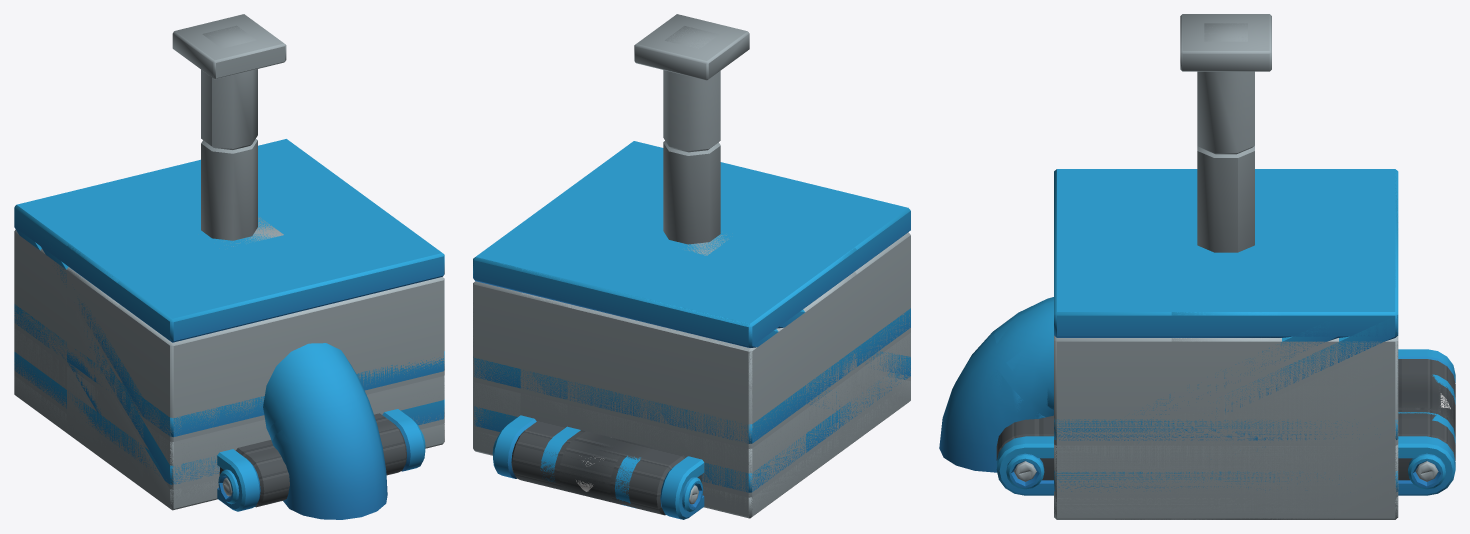
The model's file is space.glb.
The picture shows the model from 3 angles, left to right: view 1: azimuth 30°, elevation 25°; view 2: azimuth 150°, elevation 25°; view 3: azimuth 270°, elevation 25°; orthographic projection. The views are drawn at different scales.
Visible parts, largest first — view 1: platform_6x6x4_blue, pipe_180_A_blue, pillar_2x2x8, platform_6x6x2_blue, platform_slope_6x4x4_blue, platform_6x2x4_blue, platform_4x4x4_blue, conveyor_4x8x1_blue, platform_4x2x4_blue, platform_6x6x1_blue, platform_slope_6x6x4_blue, platform_6x2x2_blue (+3 smaller); view 2: platform_6x6x4_blue, platform_slope_6x6x4_blue, platform_6x6x2_blue, platform_6x2x4_blue, pillar_2x2x8, platform_slope_4x6x4_blue, conveyor_4x8x1_blue, platform_slope_2x6x4_blue, platform_4x4x4_blue, platform_4x2x4_blue, platform_6x6x1_blue, conveyor_2x8x1_blue (+3 smaller); view 3: platform_6x6x4_blue, platform_6x2x4_blue, platform_slope_6x6x4_blue, pillar_2x2x8, platform_4x4x4_blue, platform_6x6x2_blue, conveyor_4x8x1_blue, pipe_180_A_blue, platform_6x2x2_blue, platform_4x2x4_blue, platform_slope_6x4x4_blue, platform_6x6x1_blue (+4 smaller).
Part boxes in pixels (box(x1,y1,x2,y2)): platform_6x6x4_blue: box(14, 139, 444, 507); pipe_180_A_blue: box(263, 343, 387, 519); pillar_2x2x8: box(172, 14, 286, 240); platform_6x6x2_blue: box(14, 304, 444, 508); platform_slope_6x4x4_blue: box(40, 229, 143, 488); platform_6x2x4_blue: box(67, 178, 389, 455); platform_4x4x4_blue: box(120, 169, 369, 287); conveyor_4x8x1_blue: box(217, 409, 425, 511); platform_4x2x4_blue: box(123, 188, 331, 268); platform_6x6x1_blue: box(14, 352, 444, 510); platform_slope_6x6x4_blue: box(14, 227, 443, 509); platform_6x2x2_blue: box(67, 348, 113, 457); platform_6x6x4_blue: box(473, 141, 910, 512); platform_slope_6x6x4_blue: box(473, 257, 910, 518); platform_6x6x2_blue: box(473, 308, 910, 516); platform_6x2x4_blue: box(529, 180, 856, 476); pillar_2x2x8: box(634, 14, 749, 244); platform_slope_4x6x4_blue: box(520, 268, 703, 458); conveyor_4x8x1_blue: box(492, 415, 704, 519); platform_slope_2x6x4_blue: box(567, 280, 656, 447); platform_4x4x4_blue: box(549, 185, 833, 292); platform_4x2x4_blue: box(576, 210, 799, 272); platform_6x6x1_blue: box(474, 365, 910, 518); conveyor_2x8x1_blue: box(540, 426, 640, 508); platform_6x6x4_blue: box(1054, 169, 1398, 518); platform_6x2x4_blue: box(1171, 169, 1280, 518); platform_slope_6x6x4_blue: box(1054, 169, 1398, 519); pillar_2x2x8: box(1180, 14, 1271, 252); platform_4x4x4_blue: box(1114, 193, 1337, 287); platform_6x6x2_blue: box(1054, 418, 1398, 518); conveyor_4x8x1_blue: box(996, 349, 1455, 495); pipe_180_A_blue: box(939, 297, 1053, 472); platform_6x2x2_blue: box(1171, 420, 1280, 518); platform_4x2x4_blue: box(1171, 193, 1280, 287); platform_slope_6x4x4_blue: box(1114, 316, 1337, 519); platform_6x6x1_blue: box(1054, 471, 1398, 519).
Bounding box in the file's own units: 6 × 8.5 × 9.
5 materials, 4 textured.
